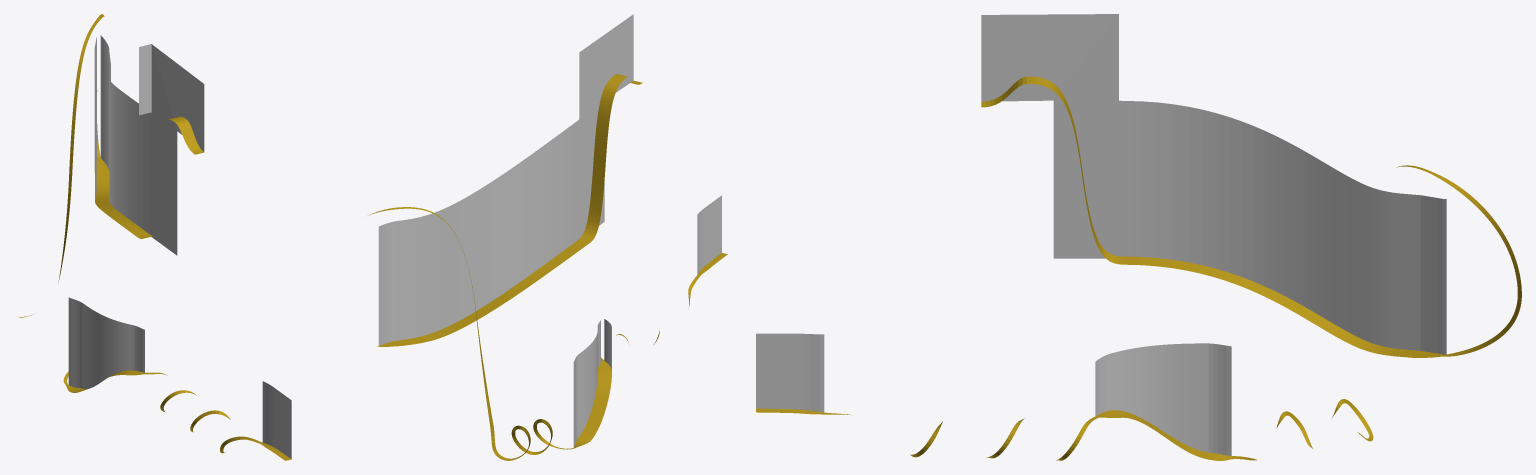
The model's file is SkyRoad01.gltf.
3 renders of one model, left to right at view 1: azimuth 30°, elevation 25°; view 2: azimuth 150°, elevation 25°; view 3: azimuth 270°, elevation 25°, orthographic. The views are drawn at different scales.
Visible parts, largest first — view 1: SkyRoadWall01, SkyRoad01; view 2: SkyRoadWall01, SkyRoad01; view 3: SkyRoadWall01, SkyRoad01.
Part boxes in pixels (x1,y1,x2,y2): SkyRoadWall01: (68,35,291,458); SkyRoad01: (19,14,291,460); SkyRoadWall01: (378,14,721,447); SkyRoad01: (369,74,727,460); SkyRoadWall01: (756,14,1446,455); SkyRoad01: (756,76,1521,460).
Size of the model in its own units: 49.32 by 111 by 167.
